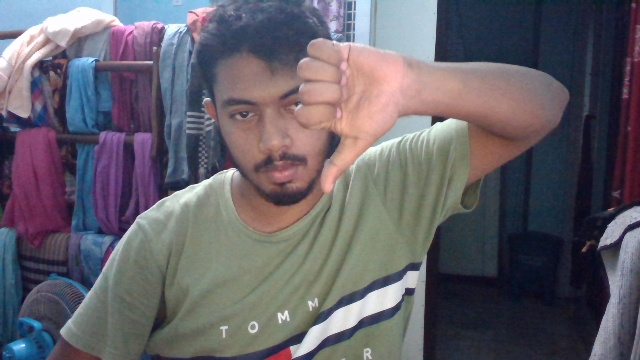no: (290, 32, 417, 196)
